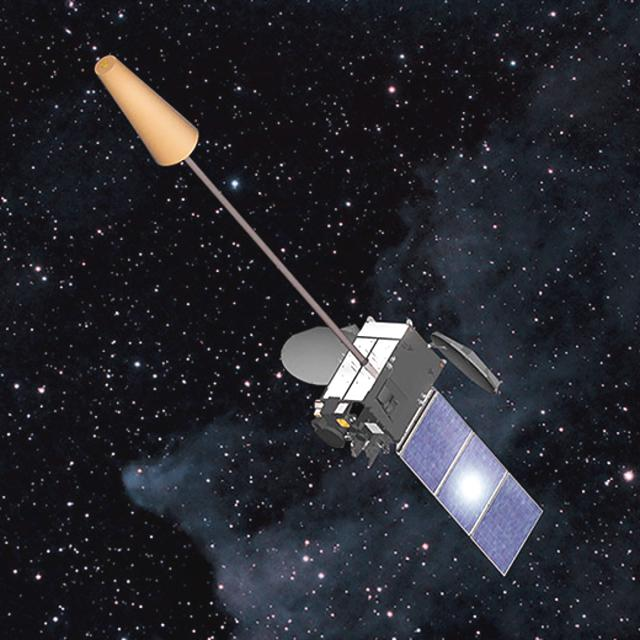medium_debris: (80, 45, 550, 586)
